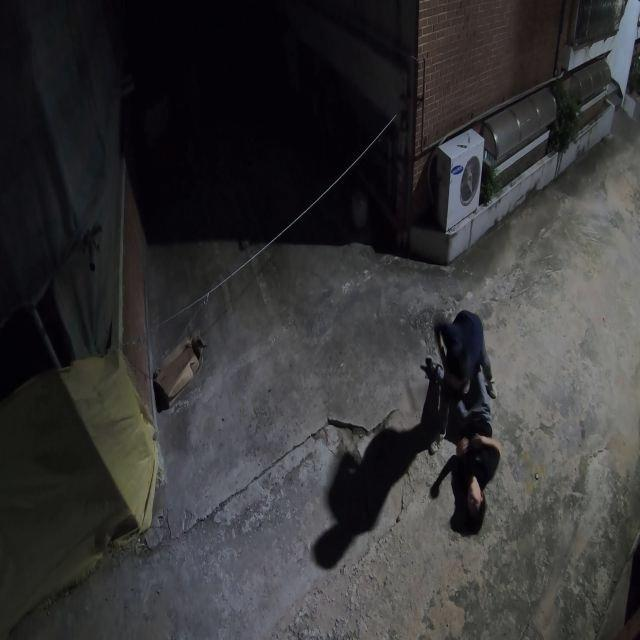fight: (418, 305, 502, 533)
